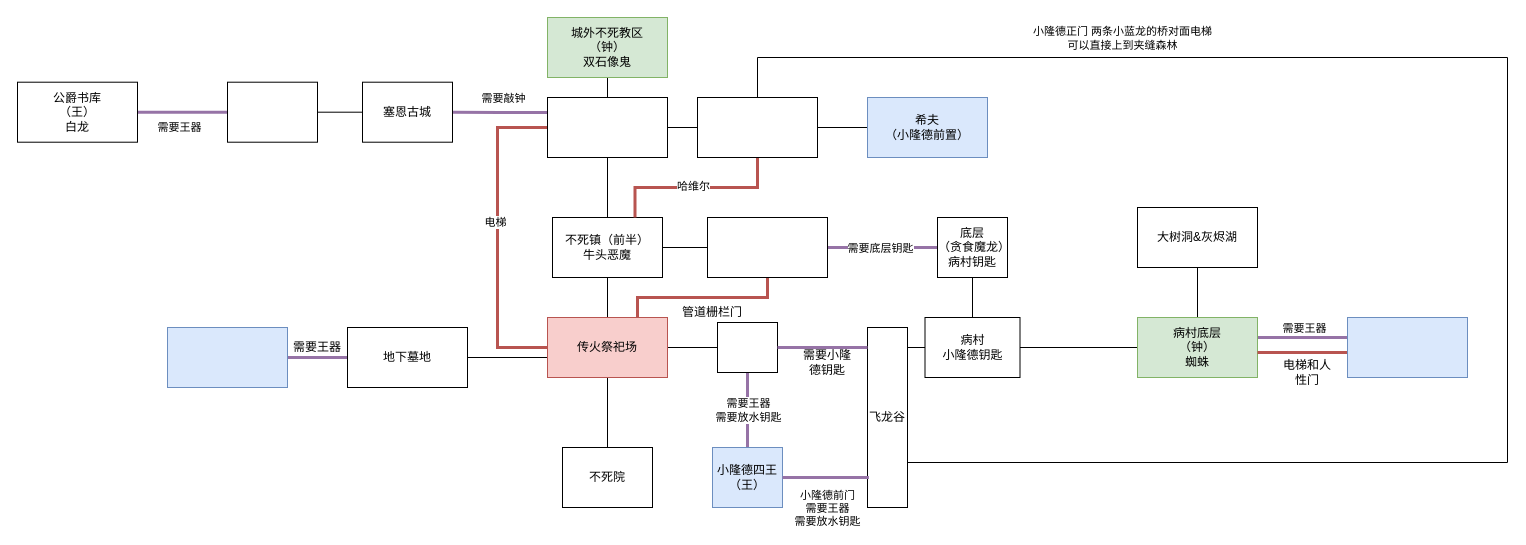
This 1526x545 diagram has some shape labels left out. Each missing label, with the box of its shape:
不死镇（后半） （一羊两狗） 底层钥匙: (706, 216, 828, 278)
亚诺尔隆德 （王器）: (226, 81, 318, 142)
城外不死教区 安德烈: (546, 96, 668, 158)
小隆德后门: (716, 322, 778, 372)
巨人墓地 （王） 尼特: (166, 326, 288, 388)
恶魔遗迹 （王） 温床: (1346, 316, 1468, 378)
黑森林庭院: (696, 96, 818, 158)
